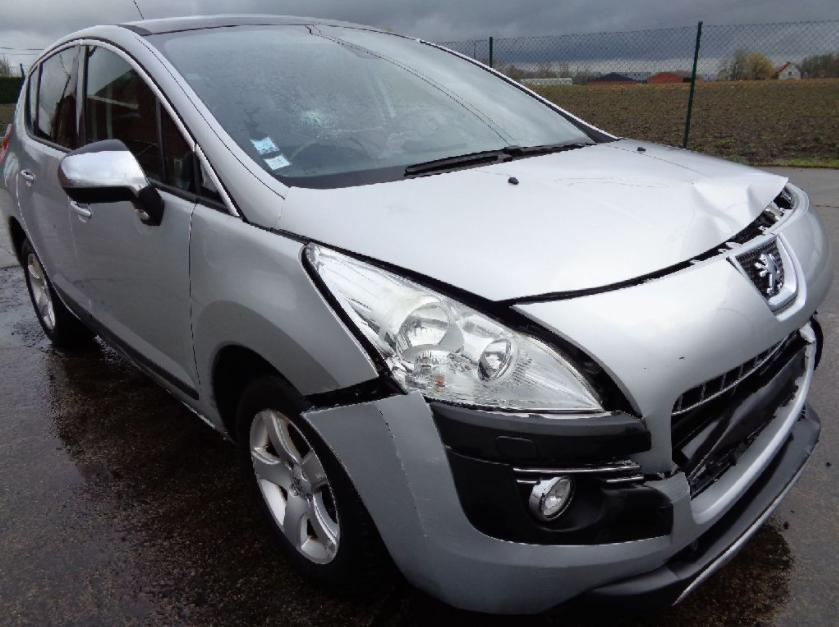Back-door: (16, 37, 91, 326)
Back-wheel: (21, 236, 96, 346)
Back-window: (38, 46, 74, 147), (27, 66, 38, 131)
Fender: (189, 202, 380, 431)
Front-bumper: (300, 183, 834, 614)
Front-door: (68, 38, 209, 419)
Front-wheel: (236, 368, 400, 596)
Front-window: (85, 45, 161, 182), (162, 105, 195, 194), (197, 156, 225, 204)
Grille: (671, 328, 806, 497)
Headlight: (304, 241, 612, 414)
Hood: (277, 140, 788, 302)
Mirror: (58, 140, 165, 226)
Quarter-panel: (0, 113, 50, 279)
Rocker-panel: (49, 280, 238, 447)
Roof: (97, 14, 397, 37)
Tail-light: (0, 124, 11, 162)
Windshield: (142, 24, 619, 188)
